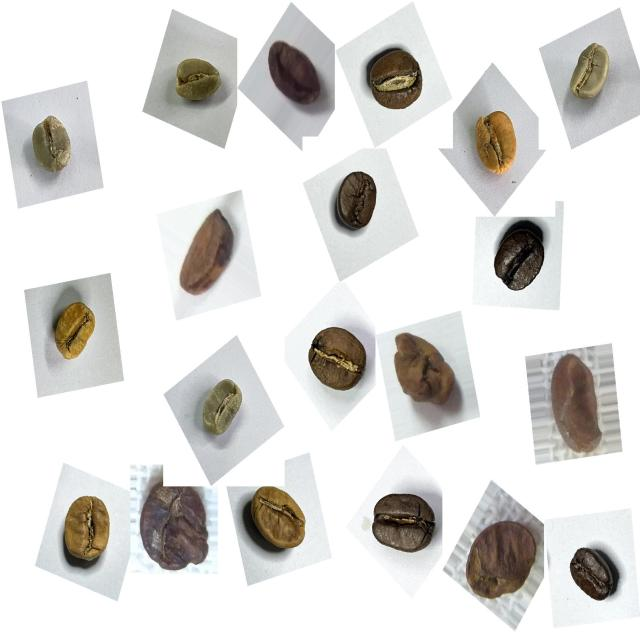bad: (167, 198, 245, 308), (539, 349, 615, 461), (384, 322, 469, 421), (462, 516, 546, 606), (140, 477, 216, 574), (259, 31, 330, 118)
dark: (365, 482, 446, 573), (481, 215, 554, 306), (325, 162, 390, 246), (559, 533, 622, 614)
green: (188, 368, 254, 448), (21, 105, 84, 184), (166, 44, 230, 114)
light: (238, 469, 317, 564), (51, 486, 122, 581), (462, 100, 532, 189), (40, 290, 108, 374), (559, 35, 618, 115)
medium: (297, 316, 377, 407), (359, 38, 434, 123)
